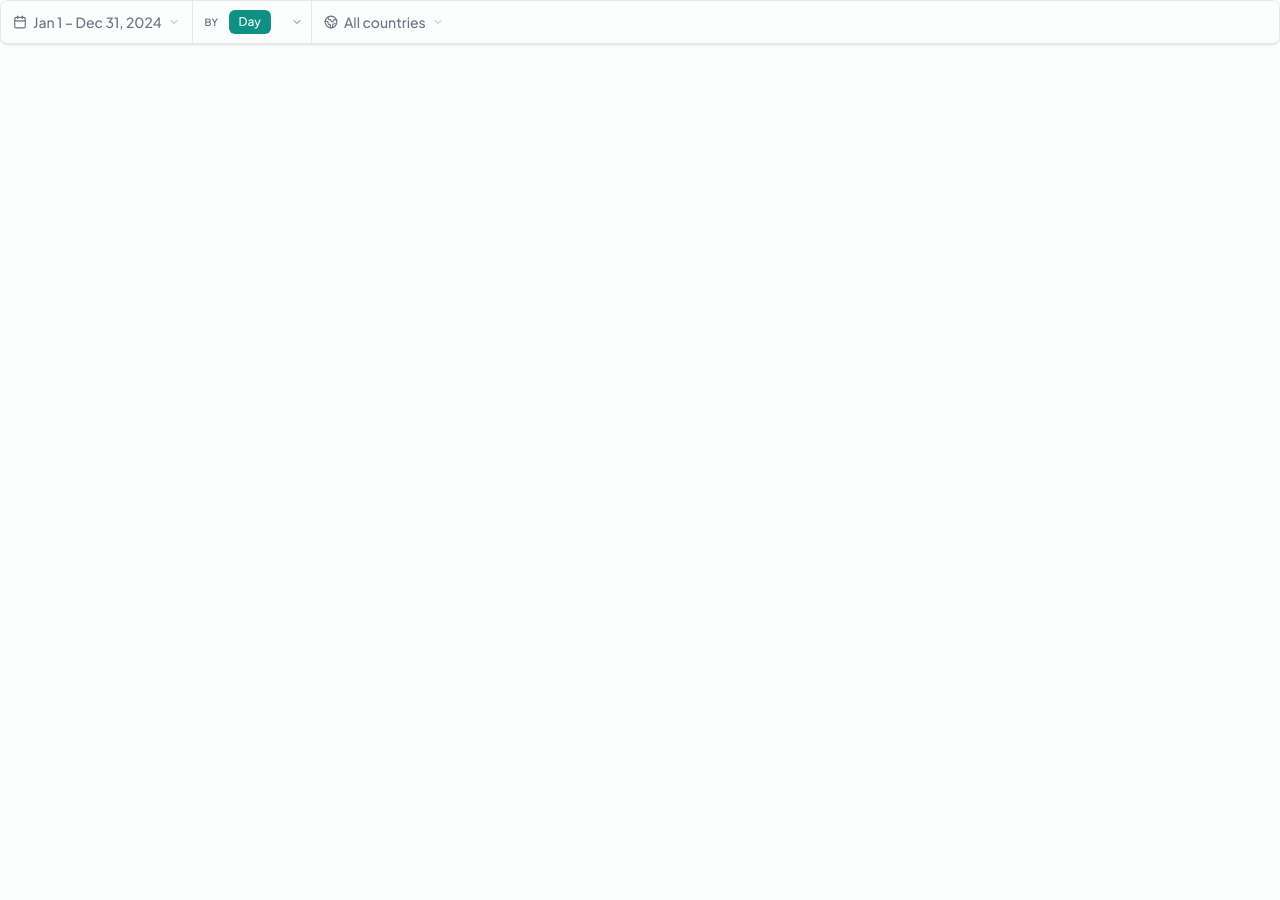
Scenario: GlobalFilters — filter key resolution › uses field.ref as lookup key when ref is set
Note: Open the Country filter popover
Click the button "All countries" at (384, 22), box [312,0,456,44]
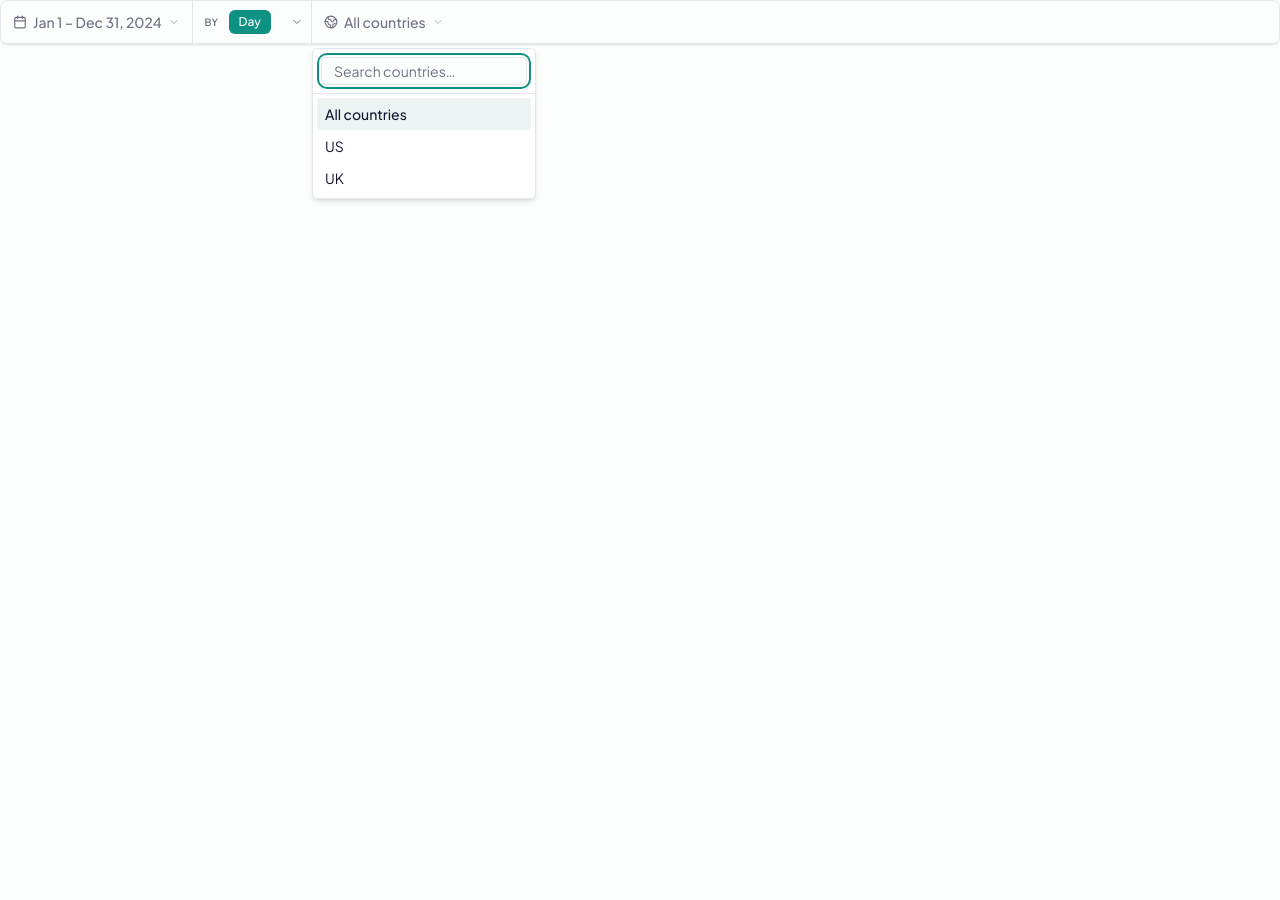
Now the button "US" is shown, box [317,130,531,162]
Now the button "UK" is shown, box [317,162,531,194]
